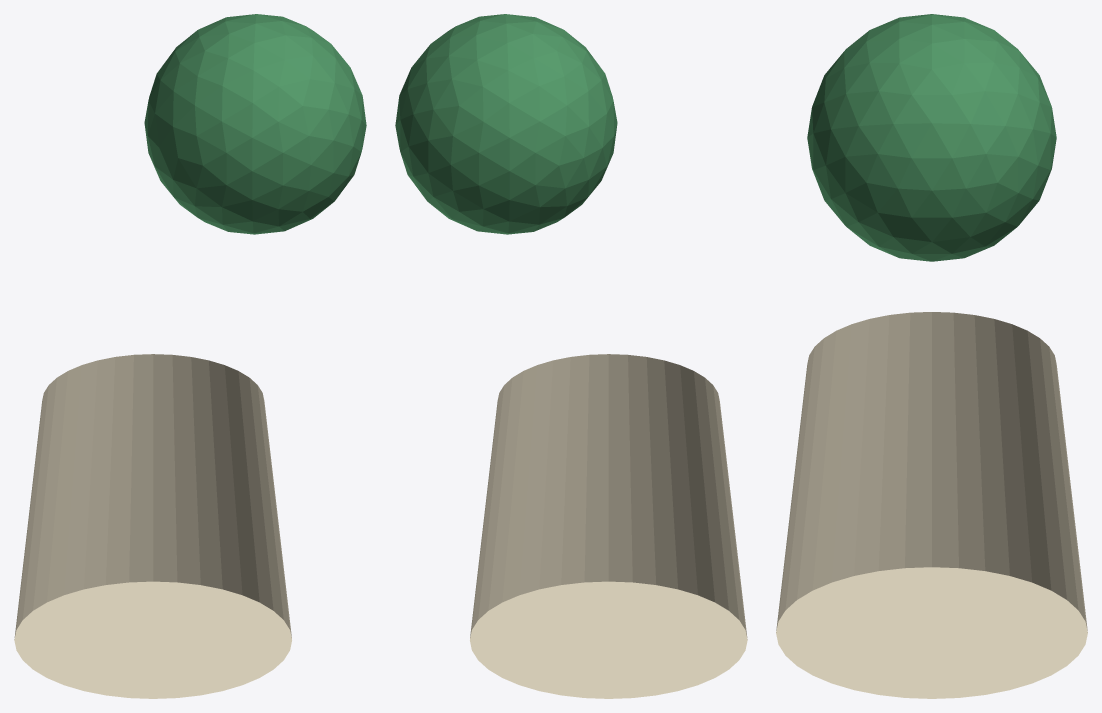
The model's file is plant.glb.
The picture shows the model from 3 angles, left to right: view 1: azimuth 30°, elevation 25°; view 2: azimuth 150°, elevation 25°; view 3: azimuth 270°, elevation 25°; orthographic projection. The views are drawn at different scales.
Parts seen in each view (by area): view 1: Pot, LeafMass; view 2: Pot, LeafMass; view 3: Pot, LeafMass.
Boxes of the visible parts, x1,y1,x2,y2 form: Pot: (14,354,291,698); LeafMass: (144,14,366,234); Pot: (470,354,747,698); LeafMass: (395,14,617,234); Pot: (776,312,1087,698); LeafMass: (807,14,1056,261).
Bounding box in the file's own units: 0.53 × 0.94 × 0.4.
